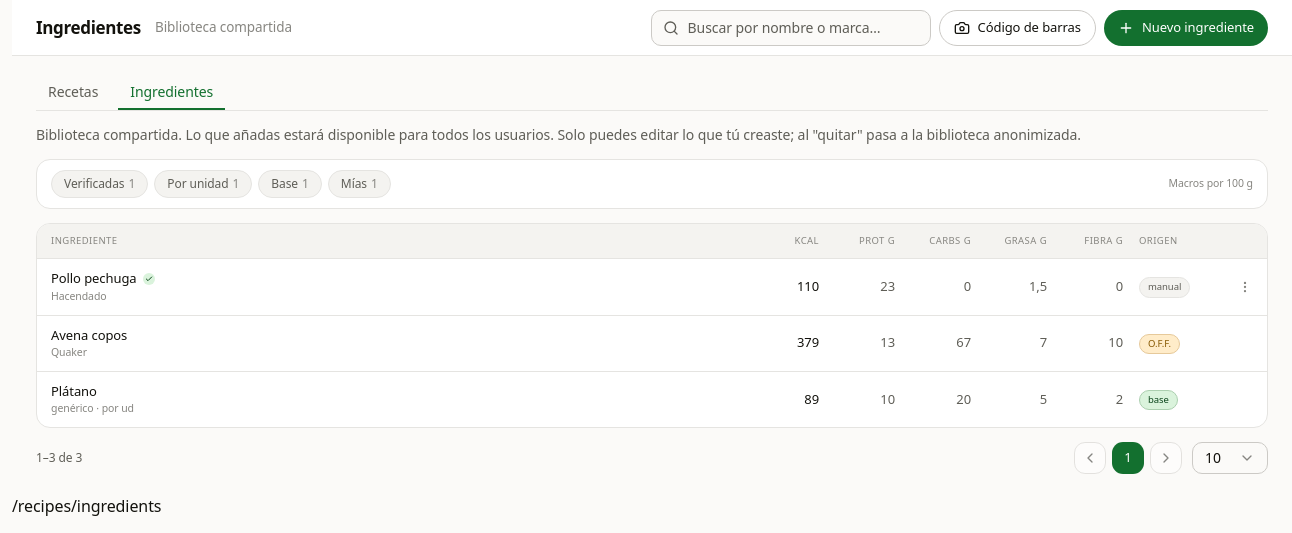
Test: IngredientesPage › narrows the list with a filter chip, and the chips carry real counts
Check: the button "Base 1" is shown, box [258,170,322,198]
Check: the button "Por unidad 1" is shown, box [154,170,252,198]
Click the button "Verificadas 1".
click(100, 184)  # box [51,170,148,198]
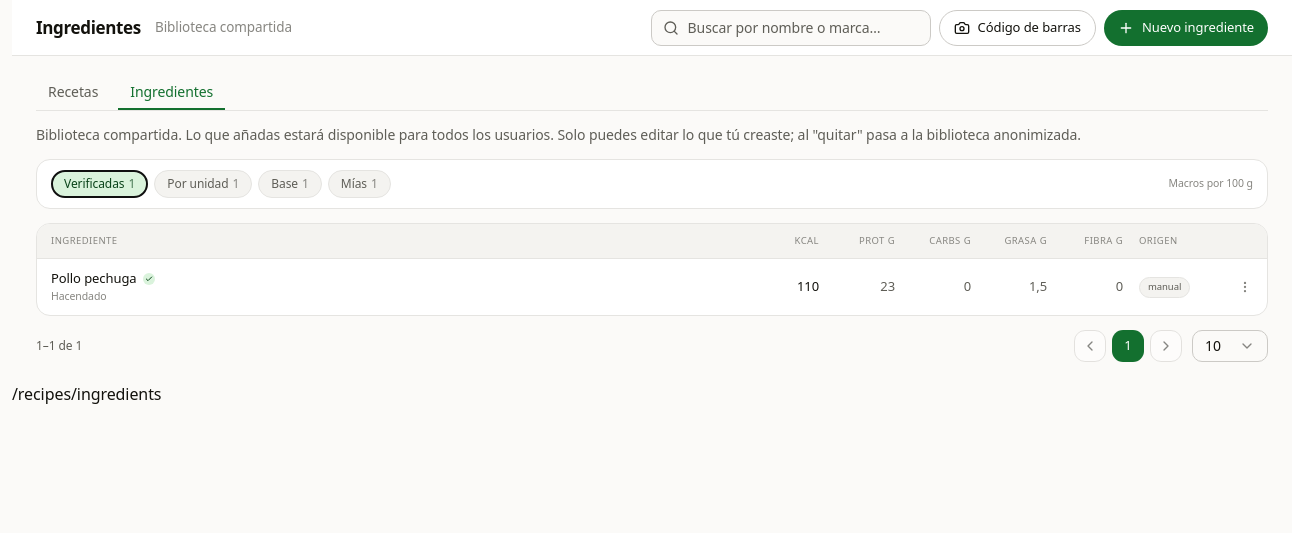
Check: the text "Avena copos" is gone
Check: the text "Plátano" is gone
